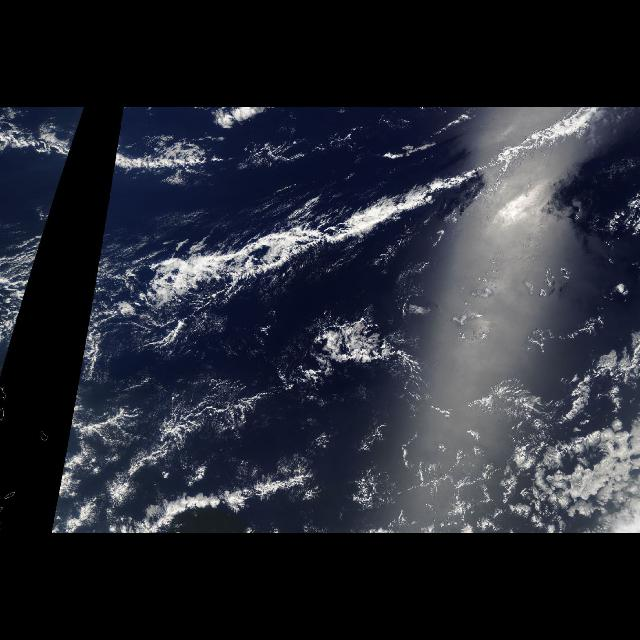Fish: (126, 107, 614, 321)
